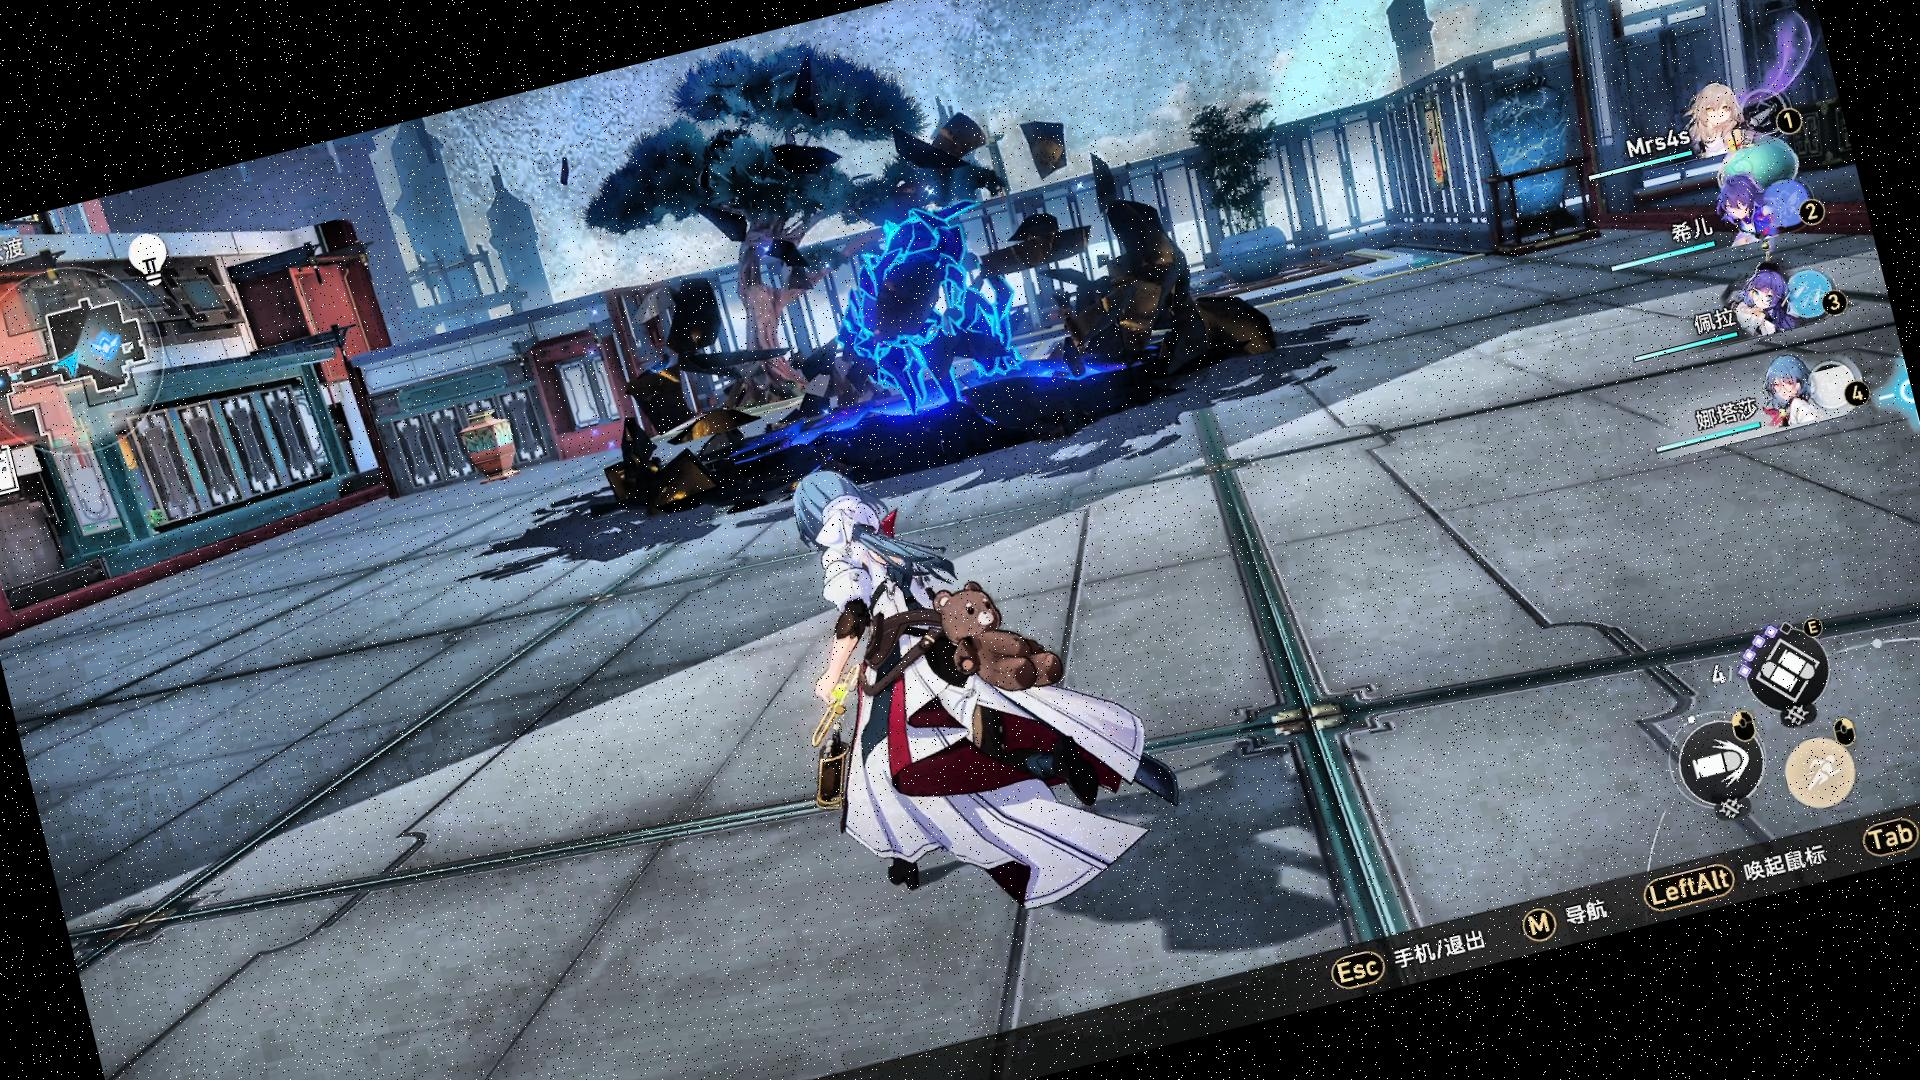Box: (454, 401, 529, 489)
Self: (744, 401, 1204, 960)
